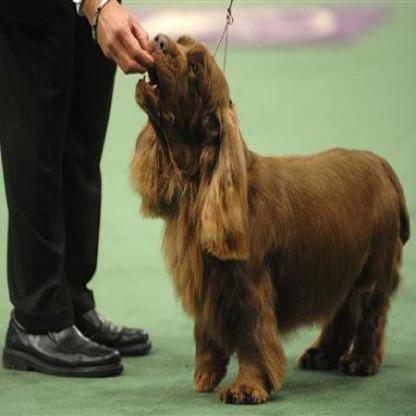Sussex_spaniel: (125, 32, 410, 404)
